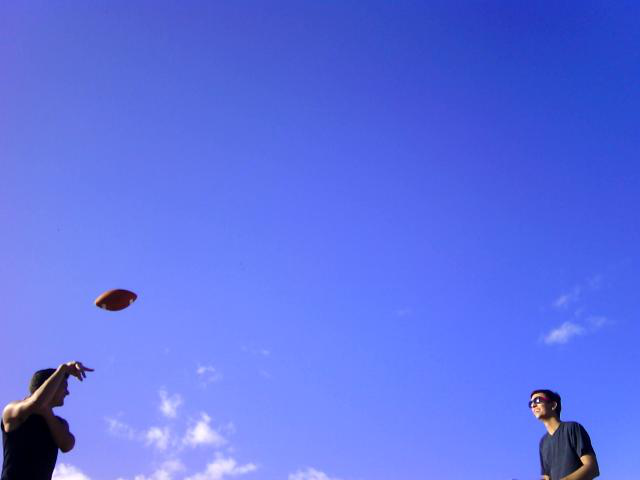football: (92, 288, 141, 316)
